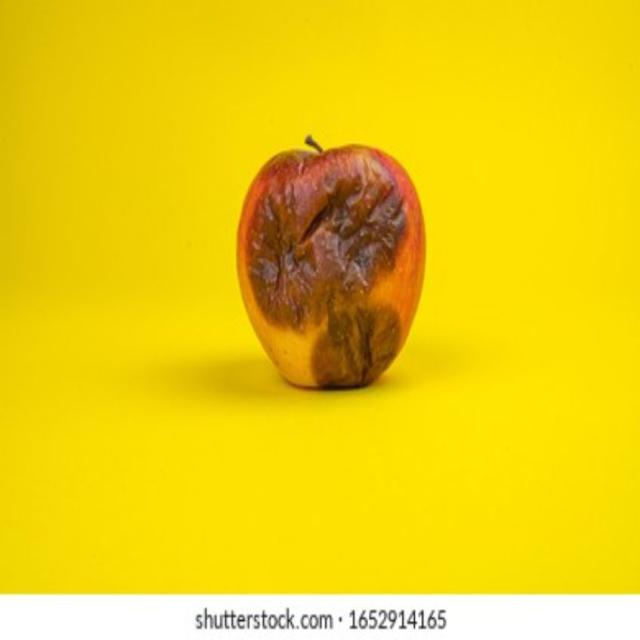Rotten Apple: (218, 107, 456, 419)
